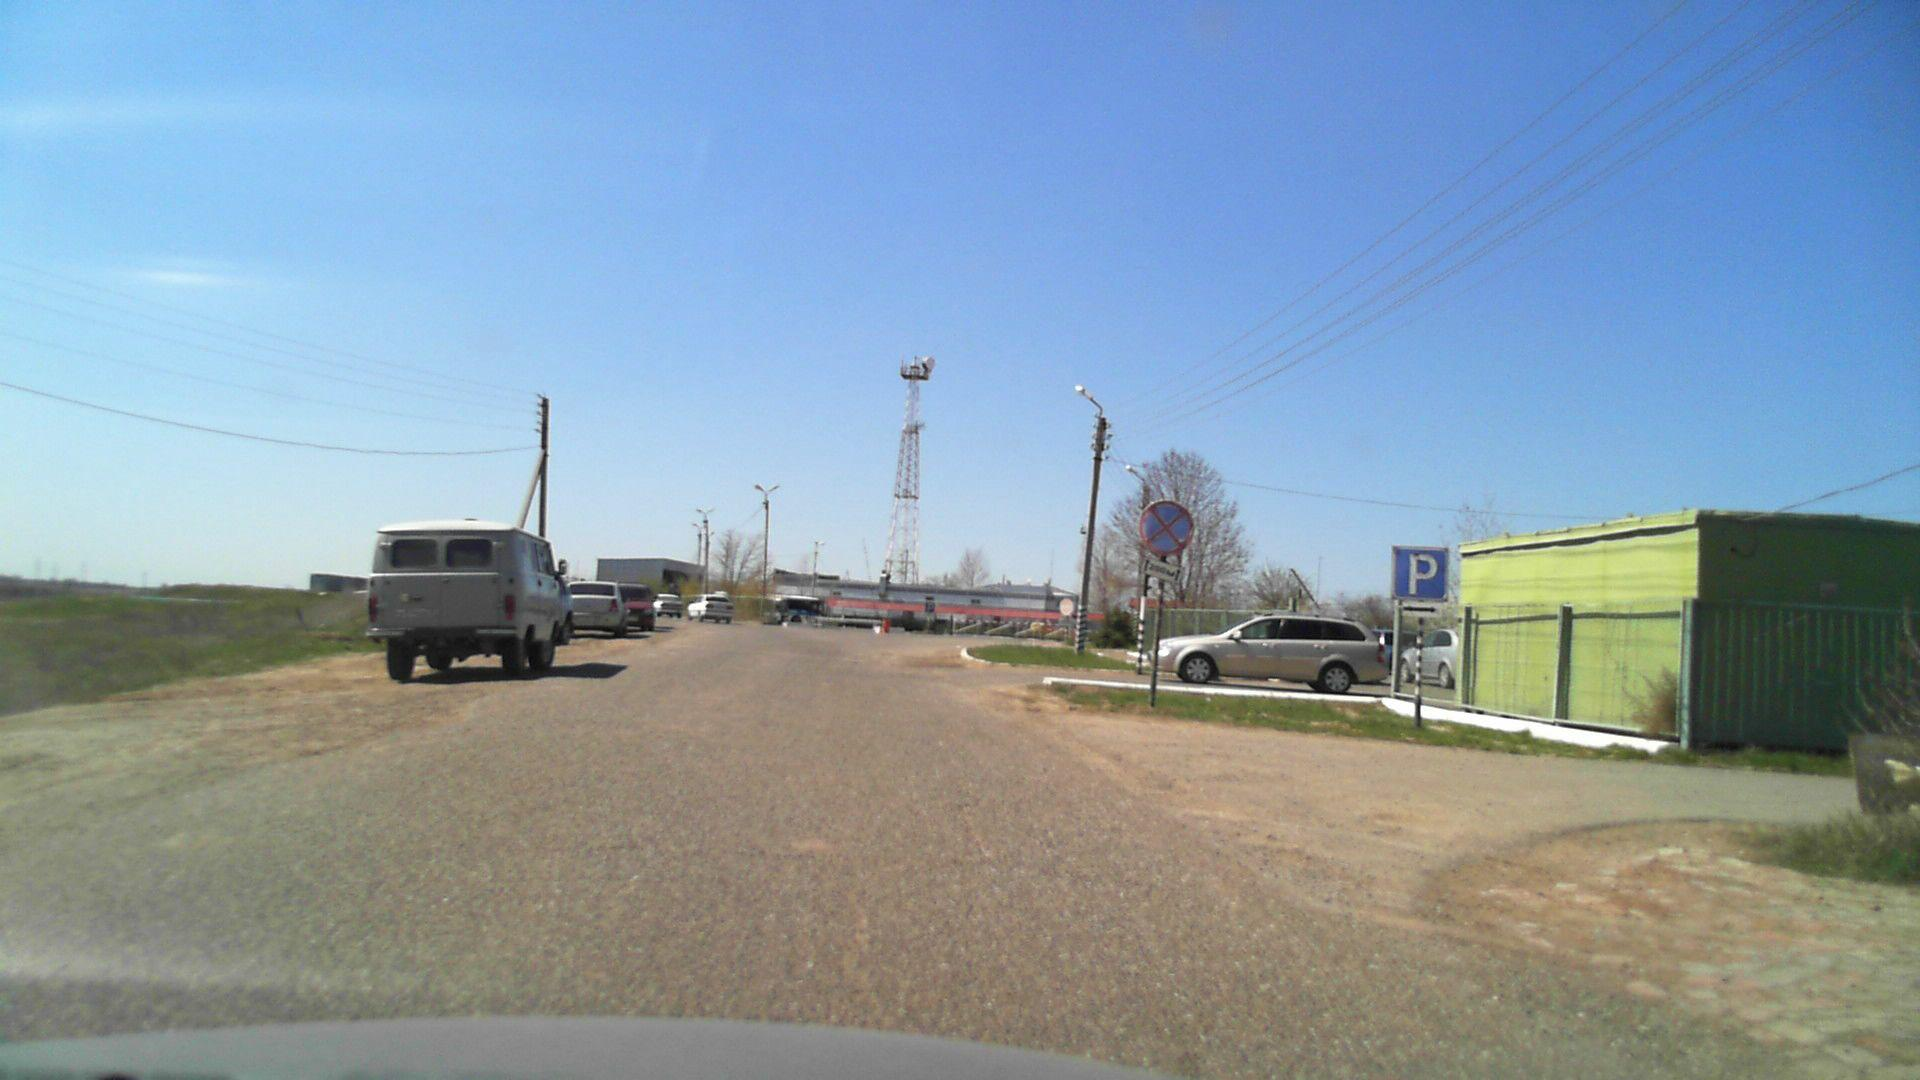3_27: (1139, 501, 1193, 556)
6_4: (1390, 545, 1448, 599)
8_2_1: (1139, 558, 1185, 583)
8_3_1: (1398, 597, 1447, 617)
